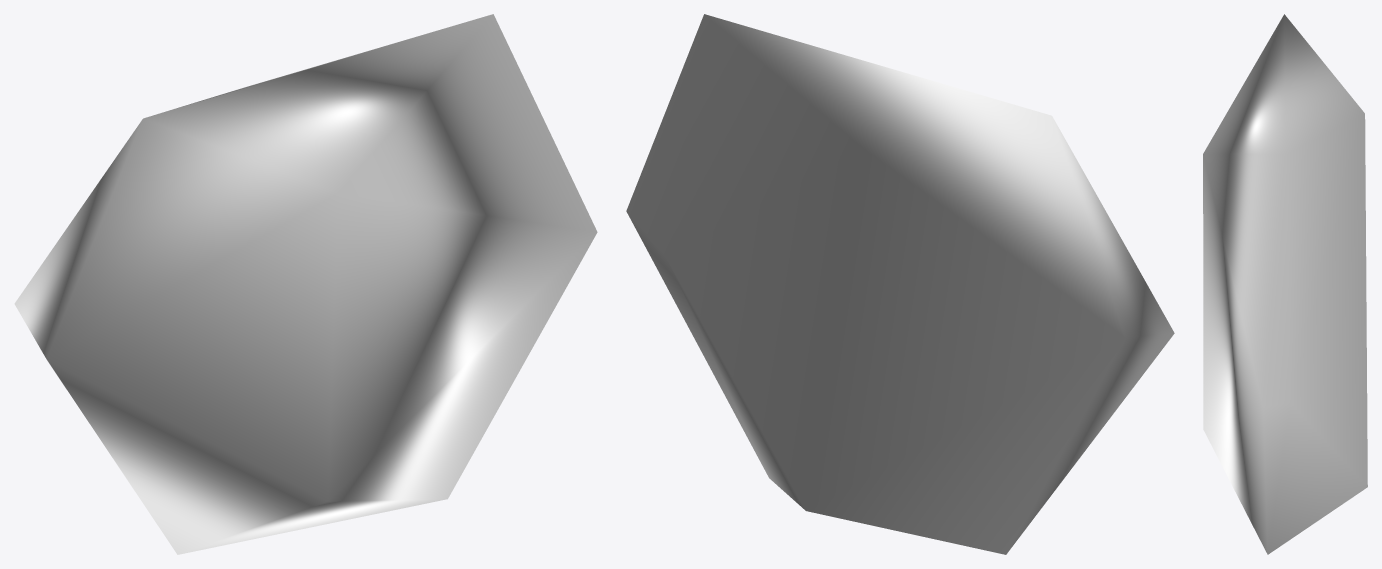
Rendered from SM_Stepping_Stone.glb.
3 views of the same model, side by side, from view 1: azimuth 30°, elevation 25°; view 2: azimuth 150°, elevation 25°; view 3: azimuth 270°, elevation 25° (orthographic). The views are drawn at different scales.
Visible parts, largest first — view 1: asset_stepping_stone; view 2: asset_stepping_stone; view 3: asset_stepping_stone.
Boxes of the visible parts, x1=… form: asset_stepping_stone: x1=14, y1=14, x2=597, y2=554; asset_stepping_stone: x1=626, y1=14, x2=1174, y2=554; asset_stepping_stone: x1=1203, y1=14, x2=1367, y2=554.
Size of the model in its own units: 0.4241 by 0.3432 by 0.1193.
1 material, 1 textured.
